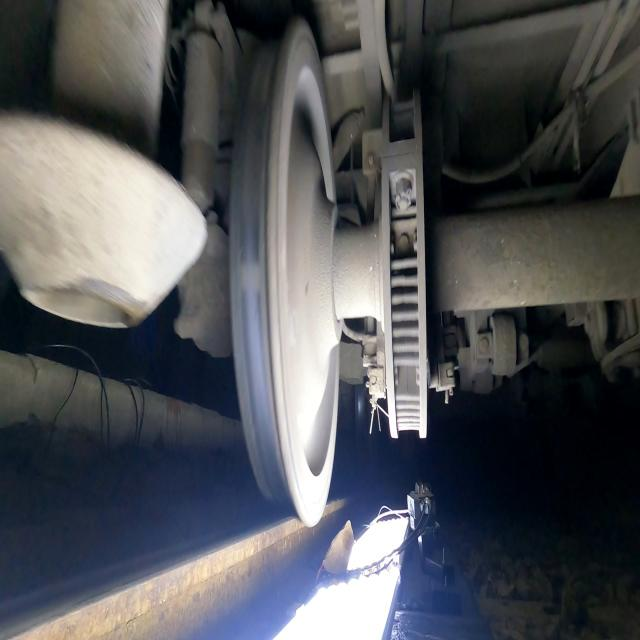Discoloration: (239, 292, 266, 343), (237, 215, 261, 260)
Shelling: (234, 132, 264, 210), (247, 48, 277, 105), (236, 266, 262, 289)
Wheel: (229, 20, 341, 527)
